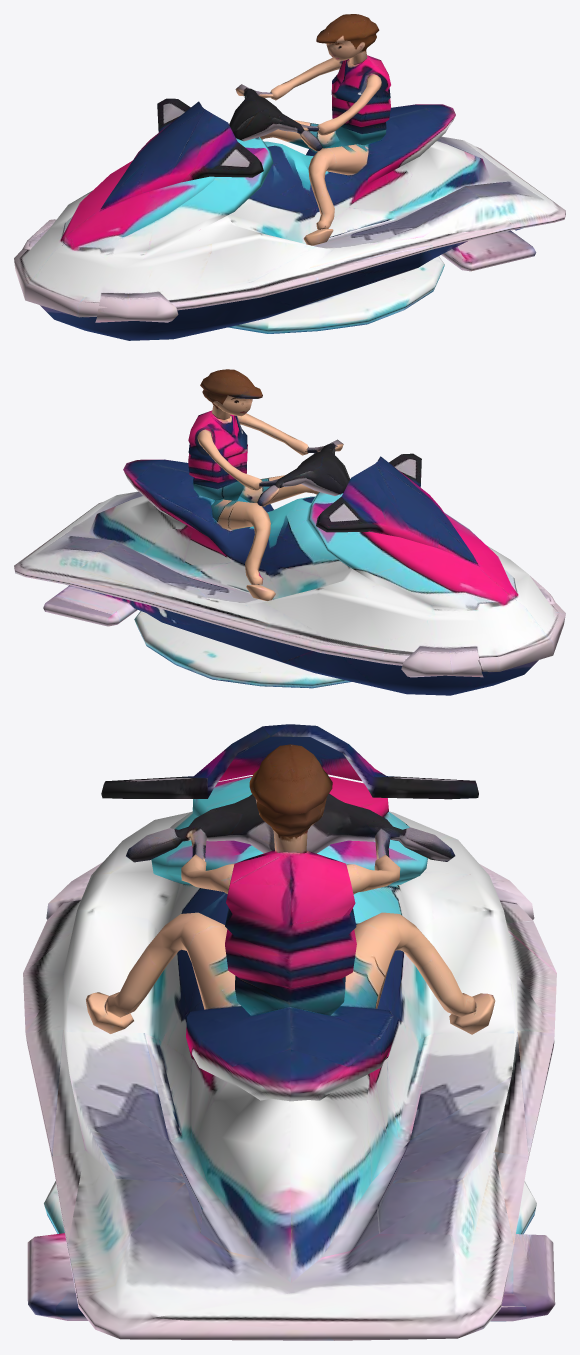
File: jetski.glb
The picture shows the model from 3 angles, top to bottom: view 1: azimuth 30°, elevation 25°; view 2: azimuth 150°, elevation 25°; view 3: azimuth 270°, elevation 25°; orthographic projection. The views are drawn at different scales.
Size of the model in its own units: 1 by 0.4924 by 0.4651.
1 material, 1 textured.
